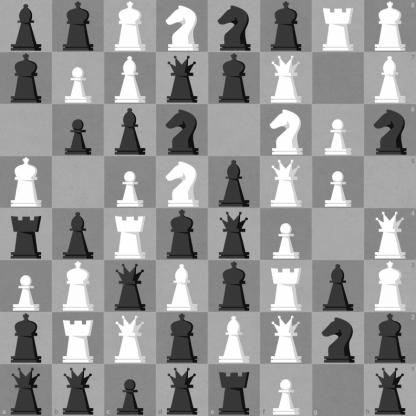B: (364, 52, 416, 104), (105, 53, 156, 104), (157, 261, 208, 312), (209, 313, 260, 364)
K: (364, 0, 416, 52), (364, 260, 416, 312), (1, 157, 52, 208), (53, 261, 104, 312), (105, 1, 156, 52)
N: (157, 1, 208, 52), (157, 157, 208, 208), (261, 105, 312, 156)
P: (260, 364, 312, 416), (1, 261, 52, 312), (53, 53, 104, 104), (105, 157, 156, 208), (261, 209, 312, 260), (313, 105, 364, 156), (313, 157, 364, 208)
Q: (364, 209, 416, 260), (105, 313, 156, 364), (261, 53, 312, 104), (261, 157, 312, 208), (261, 313, 312, 364)
R: (53, 313, 104, 364), (105, 209, 156, 260), (261, 261, 312, 312), (313, 1, 364, 52)
b: (1, 1, 52, 52), (53, 209, 104, 260), (105, 105, 156, 156), (209, 157, 260, 208), (313, 261, 364, 312)
board: (0, 0, 415, 415)
k: (364, 312, 416, 364), (1, 53, 52, 104), (1, 313, 52, 364), (53, 1, 104, 52), (157, 209, 208, 260), (157, 313, 208, 364), (209, 53, 260, 104), (209, 261, 260, 312), (261, 1, 312, 52)
n: (364, 104, 416, 156), (157, 105, 208, 156), (209, 1, 260, 52), (313, 313, 364, 364)
p: (104, 364, 156, 416), (53, 105, 104, 156)
q: (156, 364, 209, 416), (0, 364, 52, 416), (52, 364, 104, 416), (364, 364, 416, 416), (105, 261, 156, 312), (157, 53, 208, 104), (209, 209, 260, 260)
r: (209, 364, 260, 416), (1, 209, 52, 260)
